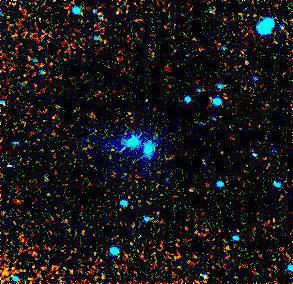star: (97, 134, 127, 164)
